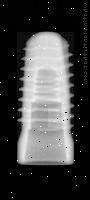Camlog: (17, 32, 74, 165)
